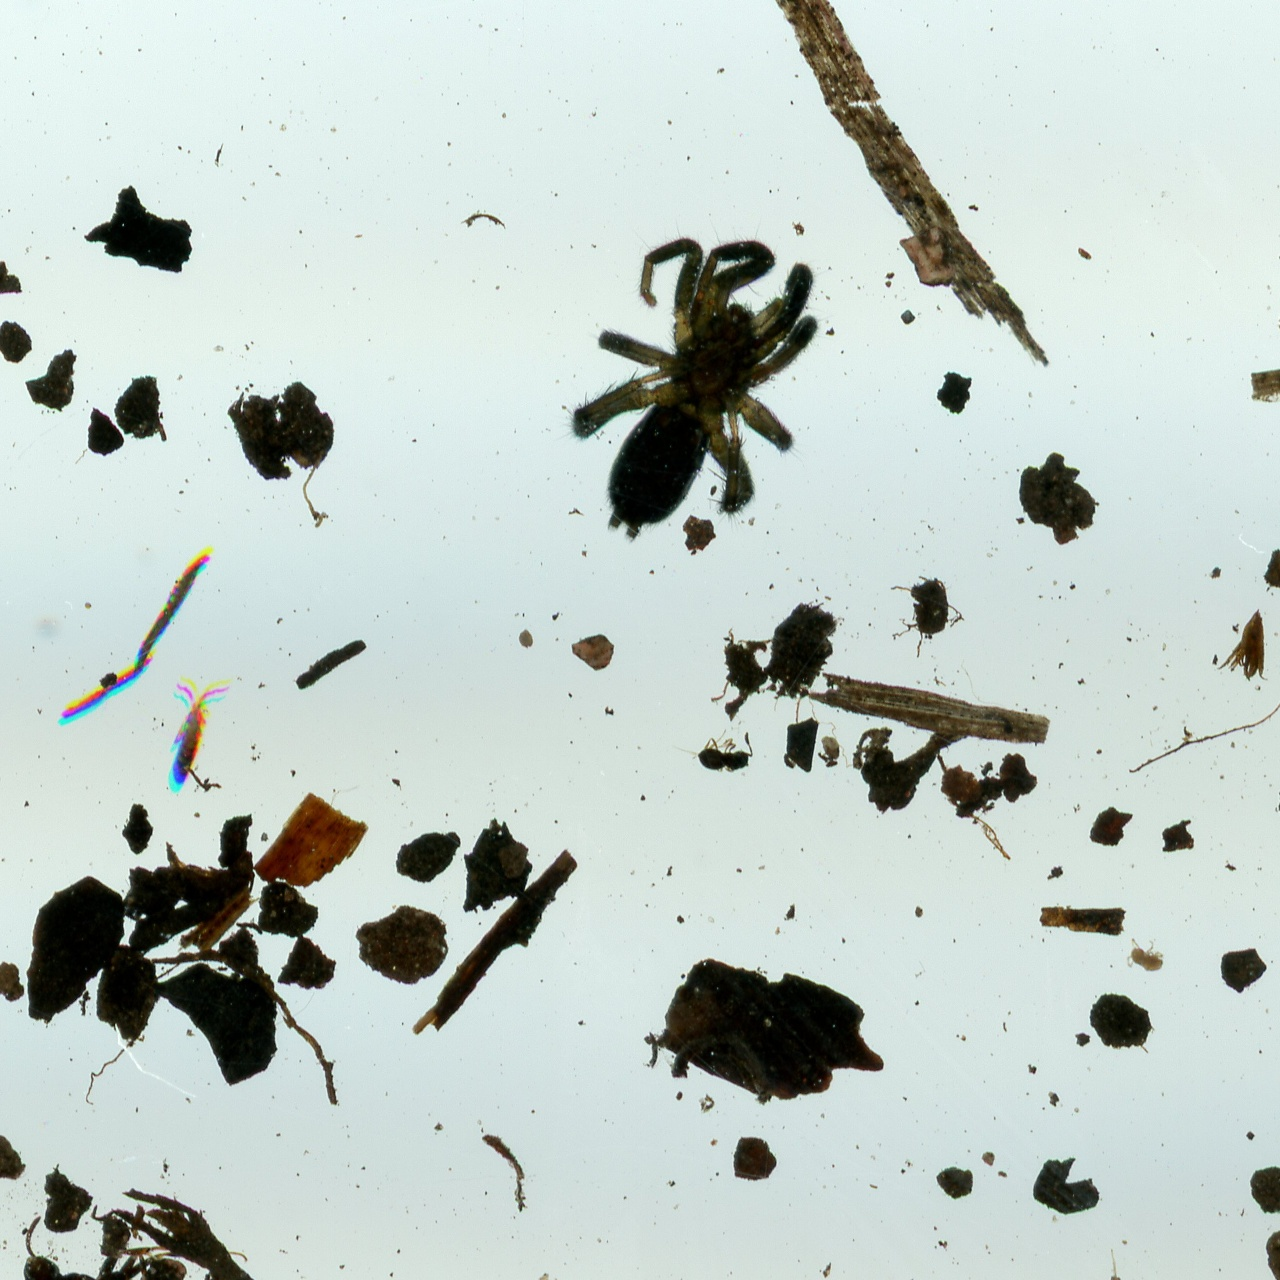arthropod: (549, 219, 831, 546), (15, 1211, 254, 1280), (153, 662, 240, 803), (671, 729, 757, 778), (1124, 934, 1165, 975)
